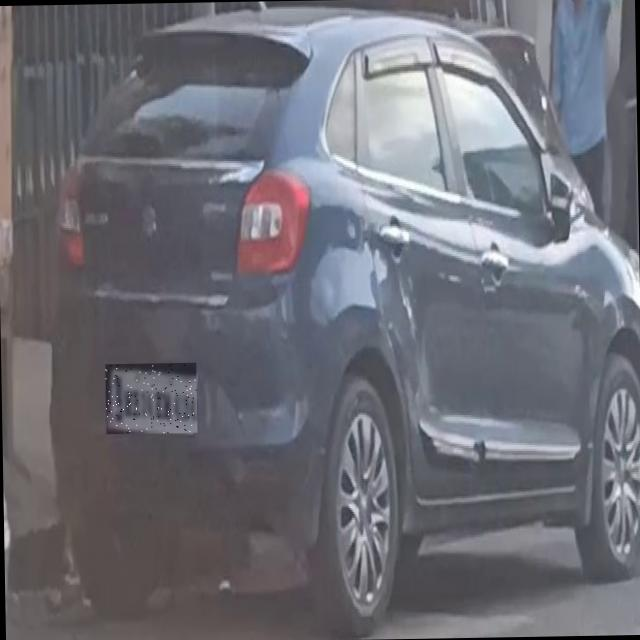Plate: (106, 364, 198, 436)
